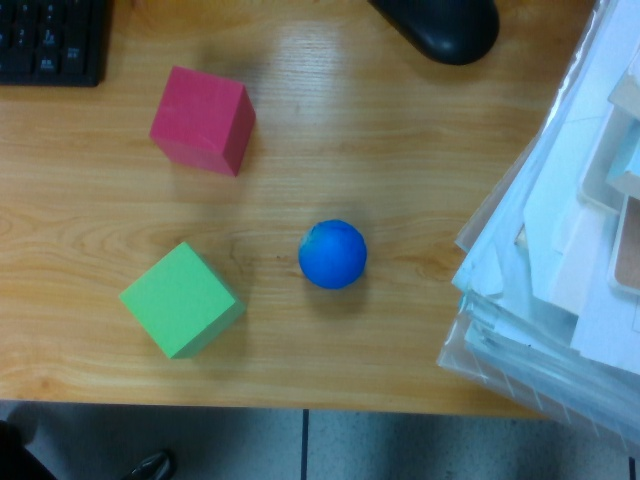blueball: (292, 216, 369, 290)
green: (117, 242, 246, 362)
red: (149, 61, 258, 182)
